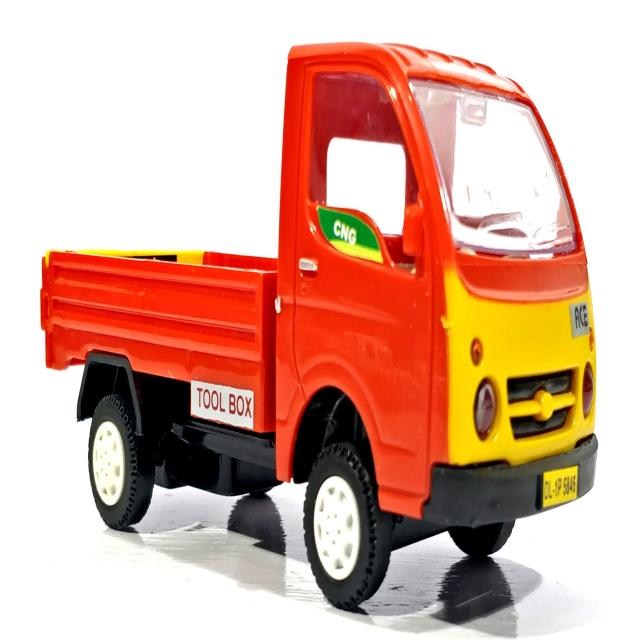truck: (40, 43, 598, 609)
